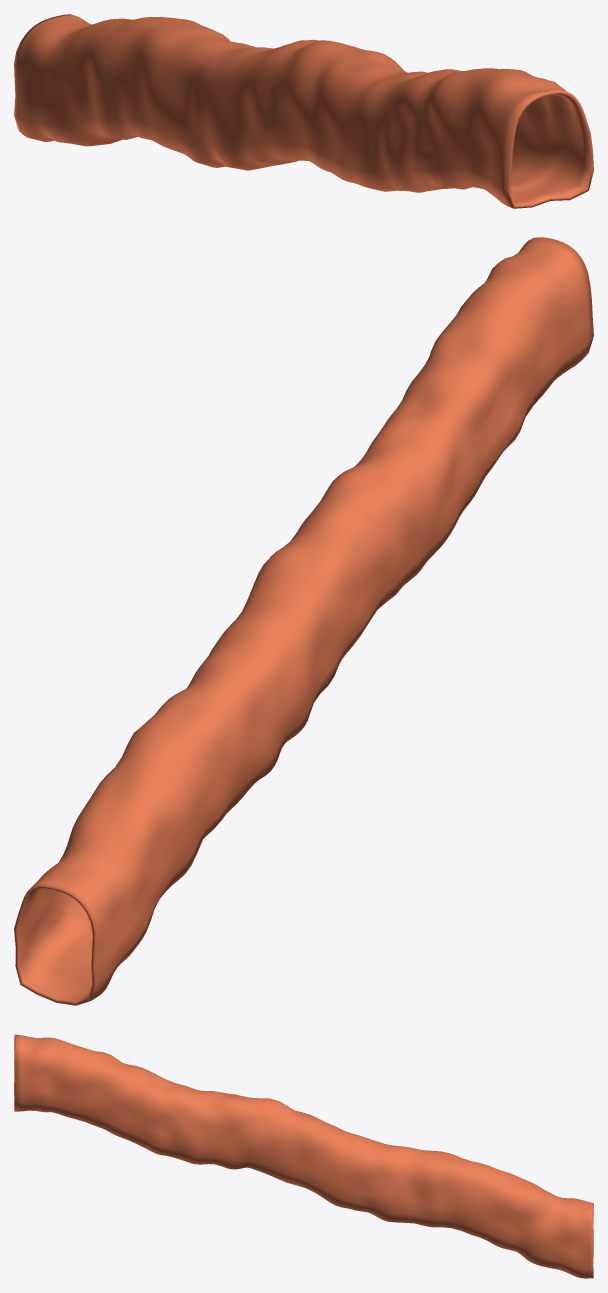
The model's file is tunnel_new.glb.
3 views of the same model, one above another, from view 1: azimuth 30°, elevation 25°; view 2: azimuth 150°, elevation 25°; view 3: azimuth 270°, elevation 25° (orthographic). The views are drawn at different scales.
Parts seen in each view (by area): view 1: Tunnel; view 2: Tunnel; view 3: Tunnel.
Boxes of the visible parts, x1,y1,x2,y2 form: Tunnel: [14, 14, 593, 208]; Tunnel: [14, 237, 593, 1005]; Tunnel: [14, 1034, 593, 1278].
Bounding box in the file's own units: 3.79 × 16.12 × 35.93.
